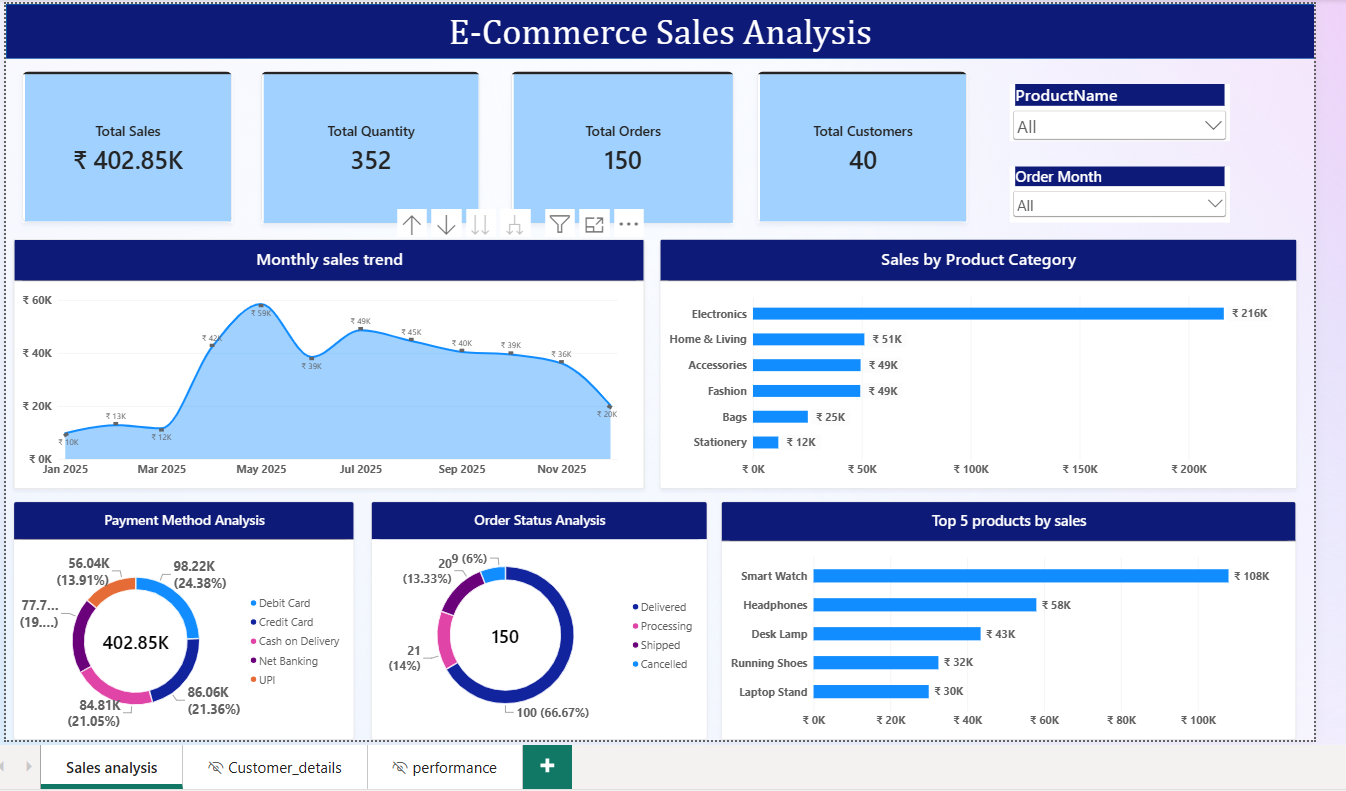

What the dashboard file says about the page in this screenshot:
{"tool":"powerbi","page":{"name":"Sales analysis","canvas":[1920,1080],"ordinal":0},"visuals":[{"type":"textbox","box":[615.4,0,618.8,62.6],"z":0},{"type":"cardVisual","fields":{"Data":["Measure table.total sales"]},"box":[24.7,98.8,308.7,222.3],"z":1},{"type":"cardVisual","fields":{"Data":["Measure table.total Quantity"]},"box":[374.6,98.8,321.1,224.4],"z":2},{"type":"cardVisual","fields":{"Data":["Measure table.total orders"]},"box":[741,98.8,327.3,224.4],"z":3},{"type":"cardVisual","fields":{"Data":["Measure table.total customer"]},"box":[1103.3,98.8,308.7,222.3],"z":4},{"type":"lineChart","title":"Monthly sales trend","fields":{"Category":["orders.OrderDate.Variation.Date Hierarchy.Year","orders.OrderDate.Variation.Date Hierarchy.Month"],"Y":["Measure table.total sales"]},"box":[10.5,345.3,926.2,366.3],"z":5},{"type":"clusteredBarChart","title":"Sales by Product Category","fields":{"Category":["products.Category"],"Y":["Measure table.total sales"]},"box":[959.3,345.3,934.9,366.3],"z":6},{"type":"slicer","fields":{"Values":["products.ProductName"]},"box":[1472.9,117.4,322.8,84.4],"z":8},{"type":"actionButton","box":[0,0,100,40],"z":9},{"type":"slicer","fields":{"Values":["orders.Order Month"]},"box":[1472.9,238.5,322.8,82.5],"z":12},{"type":"donutChart","title":"Payment Method Analysis","fields":{"Category":["payments.PaymentMethod"],"Y":["Sum(payments.PaymentAmount)"]},"box":[10.3,730.7,500.2,349.9],"z":13},{"type":"clusteredBarChart","title":"Top 5 products by sales","fields":{"Category":["products.ProductName"],"Y":["Measure table.total sales"]},"box":[1049.7,730.7,843.9,349.9],"z":14},{"type":"shape","box":[0,0,1920.4,80.3],"z":15},{"type":"donutChart","title":" Order Status Analysis","fields":{"Category":["orders.OrderStatus"],"Y":["CountNonNull(orders.OrderID)"]},"box":[535.2,730.7,494,349.9],"z":16}]}

Visuals, with their boxes on the page's 1920x1080 design canvas (x1, y1, x2, y2). These are canvas units, not pixel positions in the 1346x791 screenshot, which may show the page scaled, cropped or inside an application window:
textbox: (615, 0, 1234, 63)
cardVisual - Measure table.total sales: (25, 99, 333, 321)
cardVisual - Measure table.total Quantity: (375, 99, 696, 323)
cardVisual - Measure table.total orders: (741, 99, 1068, 323)
cardVisual - Measure table.total customer: (1103, 99, 1412, 321)
"Monthly sales trend" lineChart: (10, 345, 937, 712)
"Sales by Product Category" clusteredBarChart: (959, 345, 1894, 712)
slicer - products.ProductName: (1473, 117, 1796, 202)
actionButton: (0, 0, 100, 40)
slicer - orders.Order Month: (1473, 238, 1796, 321)
"Payment Method Analysis" donutChart: (10, 731, 510, 1081)
"Top 5 products by sales" clusteredBarChart: (1050, 731, 1894, 1081)
shape: (0, 0, 1920, 80)
" Order Status Analysis" donutChart: (535, 731, 1029, 1081)
